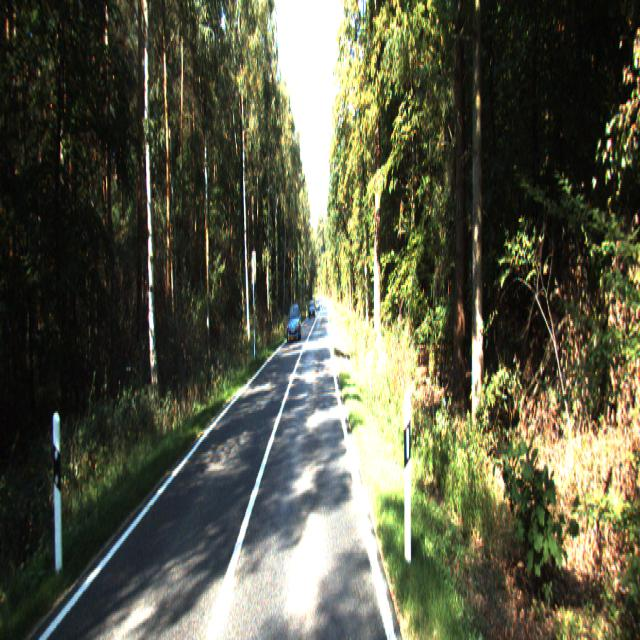Car: (286, 302, 301, 343)
